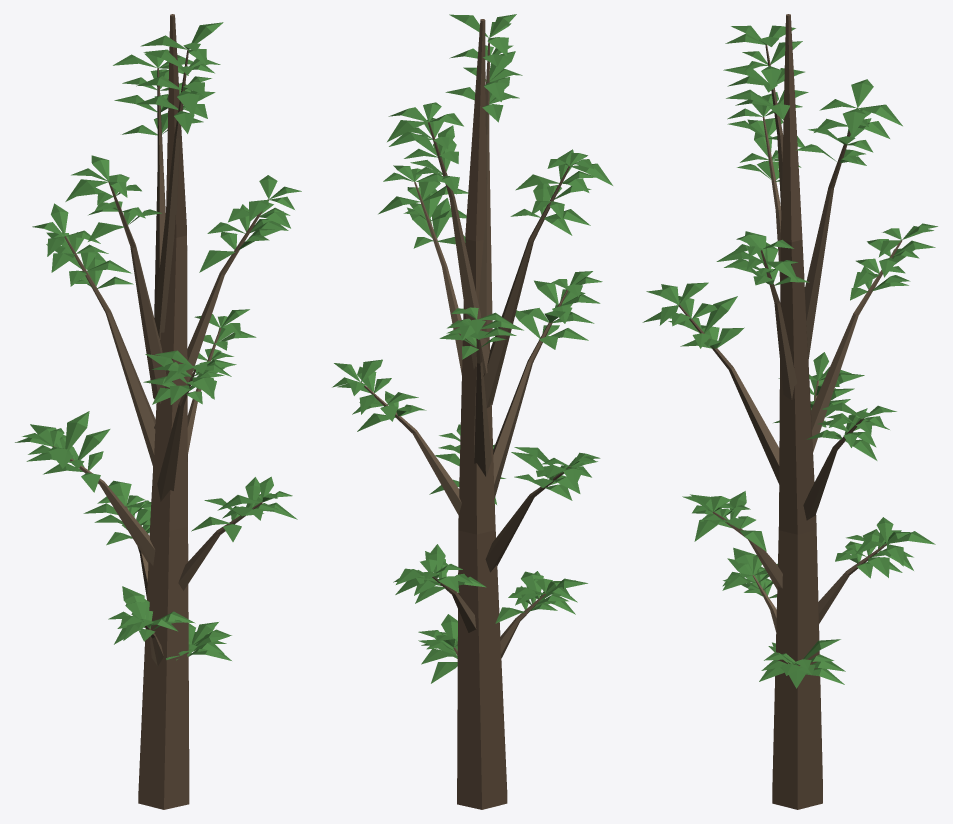
Rendered from cypress_lod1.glb.
3 views of the same model, side by side, from view 1: azimuth 30°, elevation 25°; view 2: azimuth 150°, elevation 25°; view 3: azimuth 270°, elevation 25° (orthographic).
Visible parts, largest first — view 1: cypress; view 2: cypress; view 3: cypress.
Part boxes in pixels (x1,y1,x2,y2): cypress: [15, 14, 301, 809]; cypress: [332, 14, 612, 809]; cypress: [642, 14, 937, 809].
Bounding box in the file's own units: 1.85 × 5.6 × 1.92.
